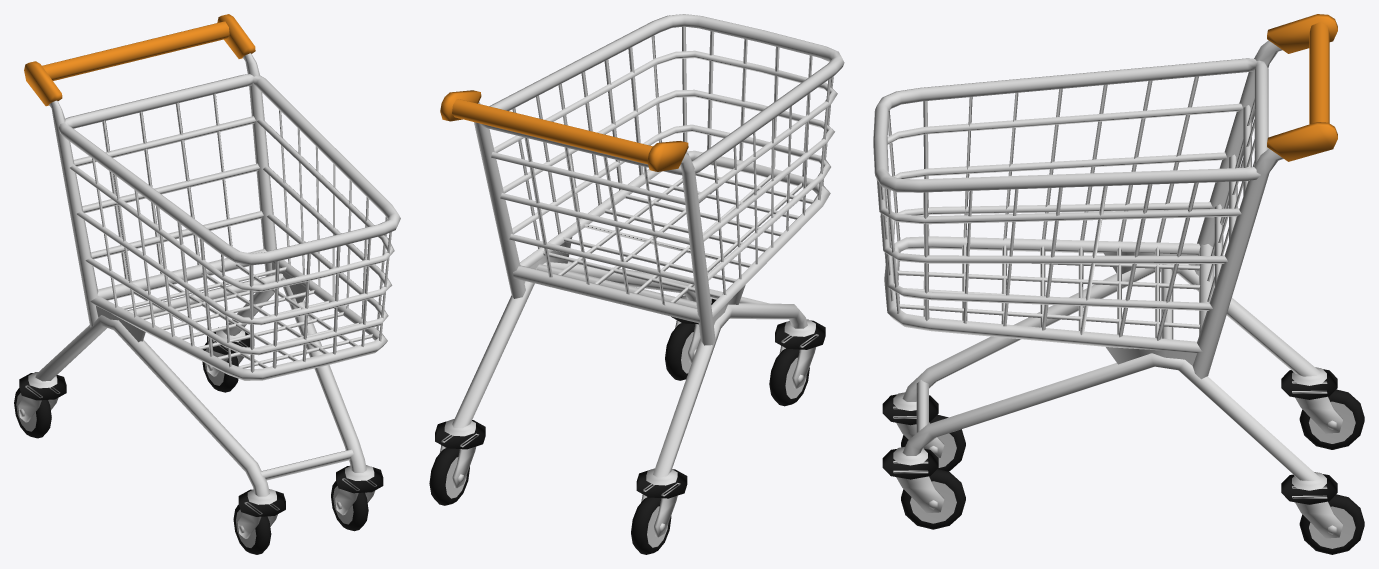
3 renders of one model, left to right at view 1: azimuth 30°, elevation 25°; view 2: azimuth 150°, elevation 25°; view 3: azimuth 270°, elevation 25°, orthographic. The views are drawn at different scales.
Visible parts, largest first — view 1: Einkaufswagen_0; view 2: Einkaufswagen_0; view 3: Einkaufswagen_0.
Boxes of the visible parts, box(x1,y1,x2,y2) form: Einkaufswagen_0: box(14, 14, 400, 554); Einkaufswagen_0: box(429, 14, 844, 554); Einkaufswagen_0: box(873, 14, 1364, 554).
Size of the model in its own units: 0.0863 by 0.1351 by 0.1396.
